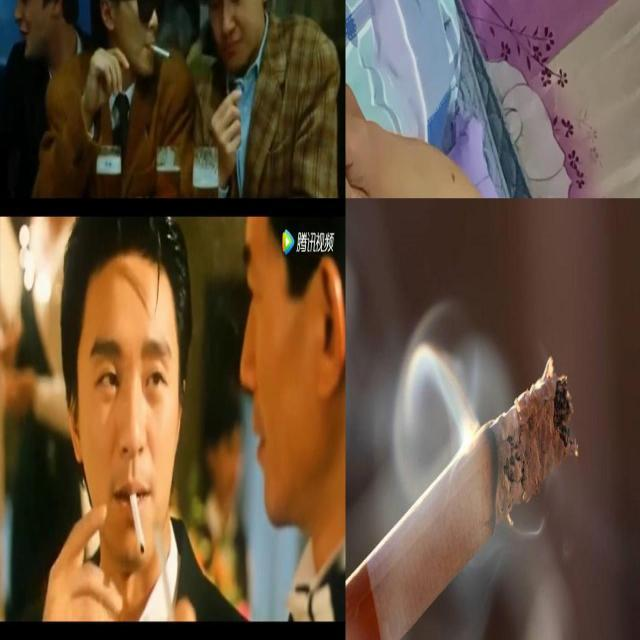smoking: (346, 354, 580, 640), (128, 493, 146, 555), (149, 42, 171, 61)
